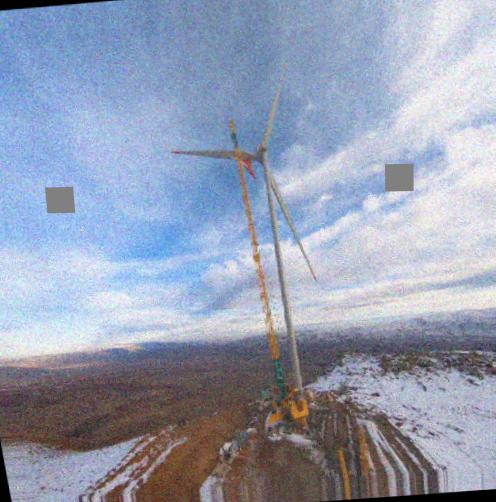wind turbine: (170, 62, 317, 412)
